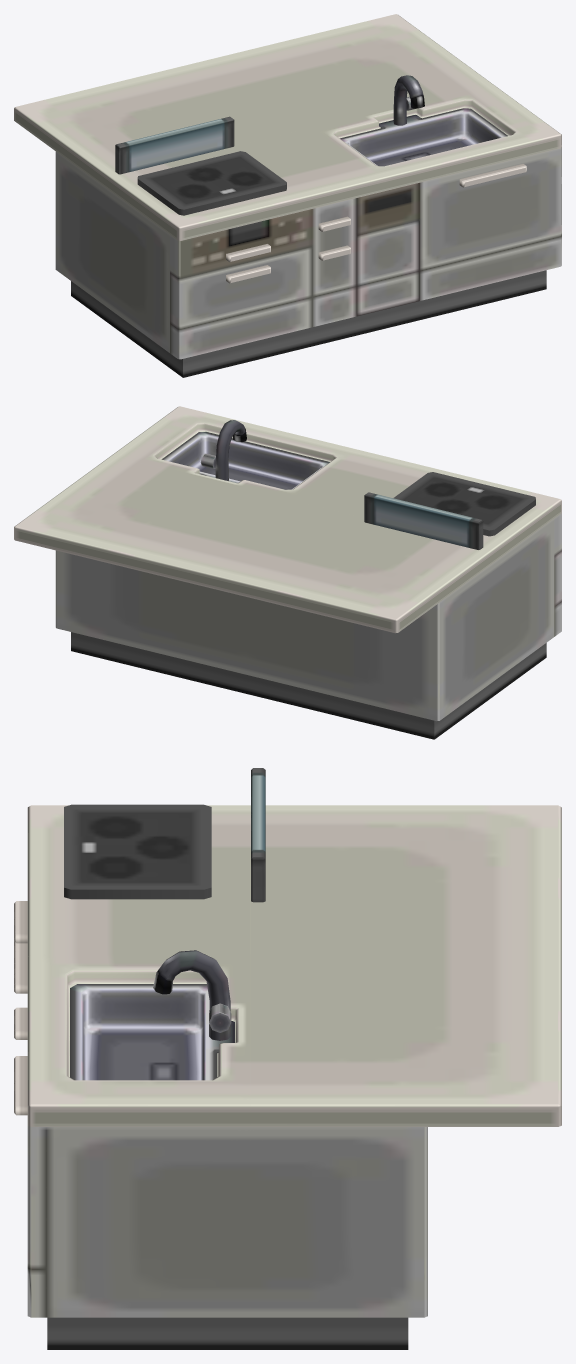
File: int_oth_is_kitchen.dae
The picture shows the model from 3 angles, top to bottom: view 1: azimuth 30°, elevation 25°; view 2: azimuth 150°, elevation 25°; view 3: azimuth 270°, elevation 25°; orthographic projection. The views are drawn at different scales.
Parts seen in each view (by area): view 1: int_oth_is_kitchen; view 2: int_oth_is_kitchen; view 3: int_oth_is_kitchen.
Part boxes in pixels (<box>): int_oth_is_kitchen: <box>14,14,561,377</box>; int_oth_is_kitchen: <box>14,406,561,739</box>; int_oth_is_kitchen: <box>14,768,561,1349</box>.
Bounding box in the file's own units: 61.44 × 30.93 × 47.16.
2 materials, 2 textured.
